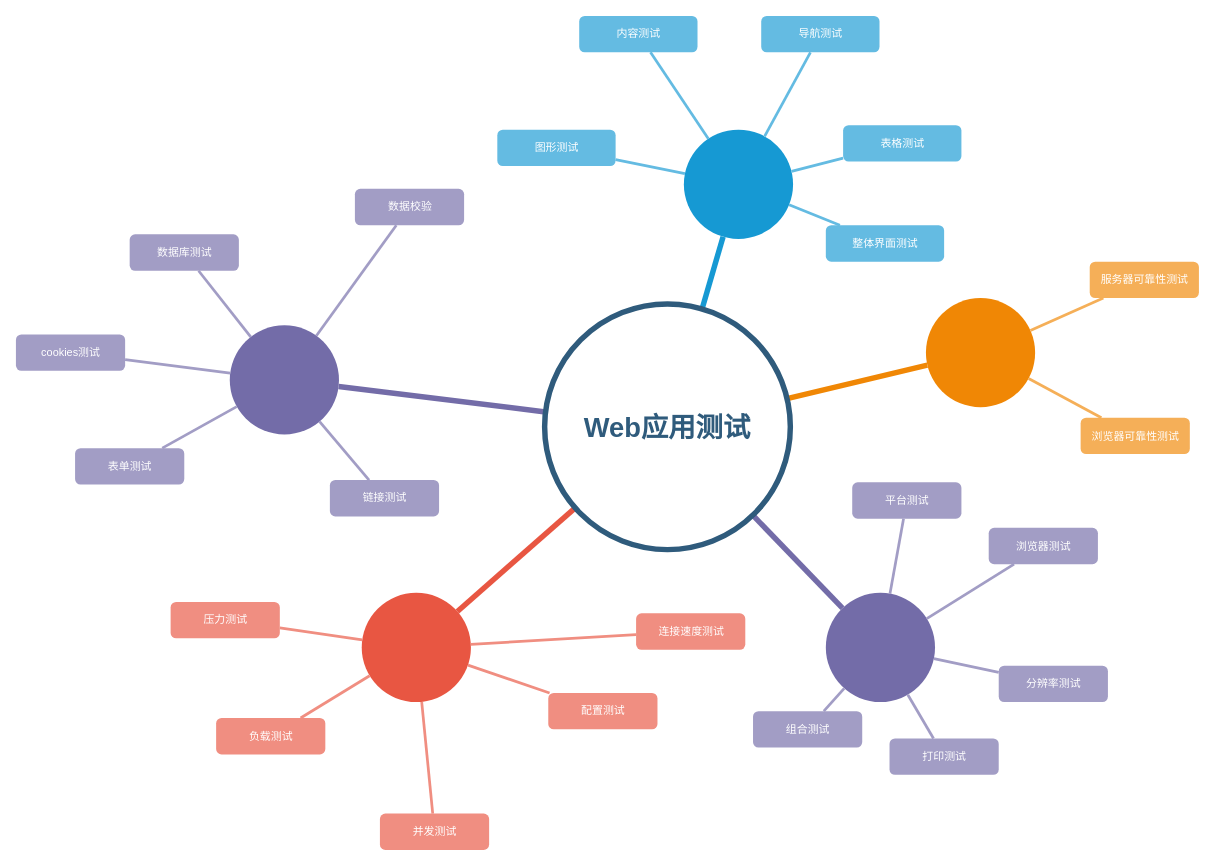
The diagram is 1214 pixels wide and 865 high, and some of its shapes have lost their labels. The centre of each missing label's shape, as x and y in pixels:
功能测试: the point at 284,379
可靠性测试: the point at 980,352
客户端兼容性: the point at 880,647
性能测试: the point at 415,647
界面测试 (UI测试): the point at 738,183
